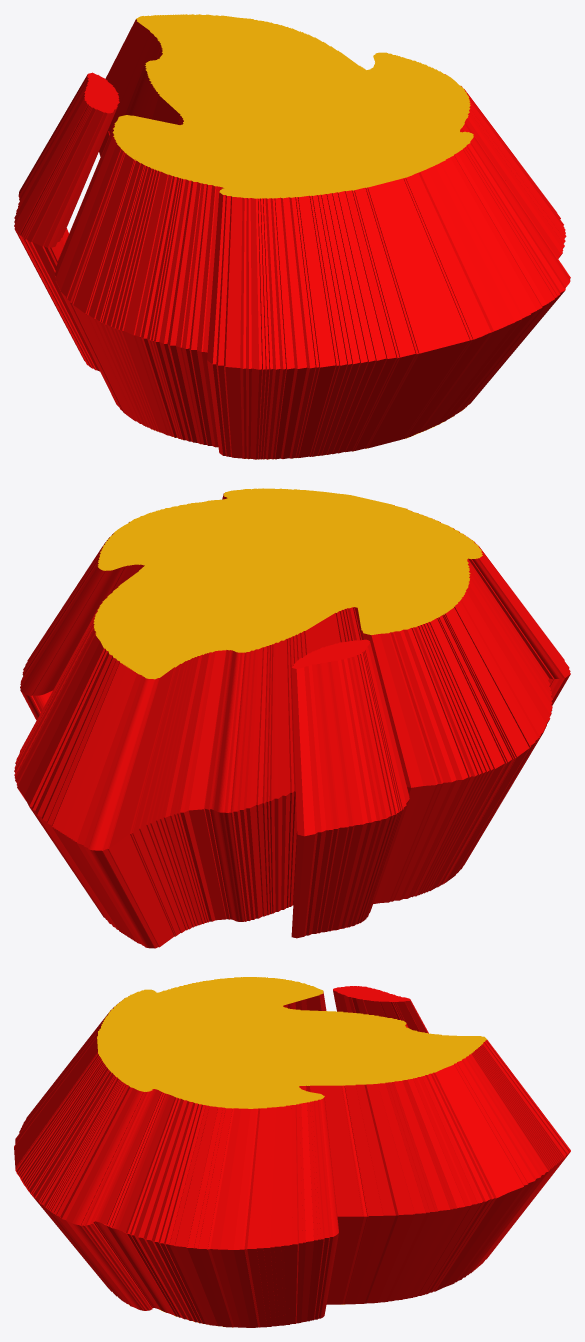
File: fireBall3d.fbx
3 views of the same model, one above another, from view 1: azimuth 30°, elevation 25°; view 2: azimuth 150°, elevation 25°; view 3: azimuth 270°, elevation 25° (orthographic). The views are drawn at different scales.
Parts seen in each view (by area): view 1: 颜色填充_1; view 2: 颜色填充_1; view 3: 颜色填充_1.
Part boxes in pixels (x1,y1,x2,y2): 颜色填充_1: [14, 14, 570, 459]; 颜色填充_1: [14, 488, 570, 948]; 颜色填充_1: [14, 977, 570, 1327].
Size of the model in its own units: 9.22 by 5 by 11.52.
